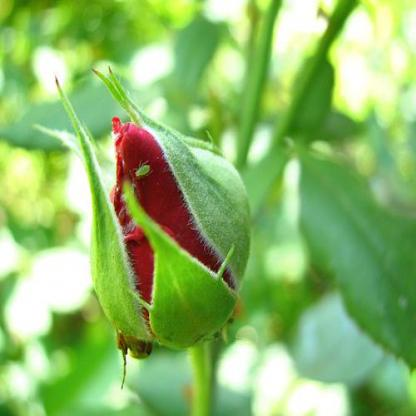aphid: (131, 158, 153, 180)
